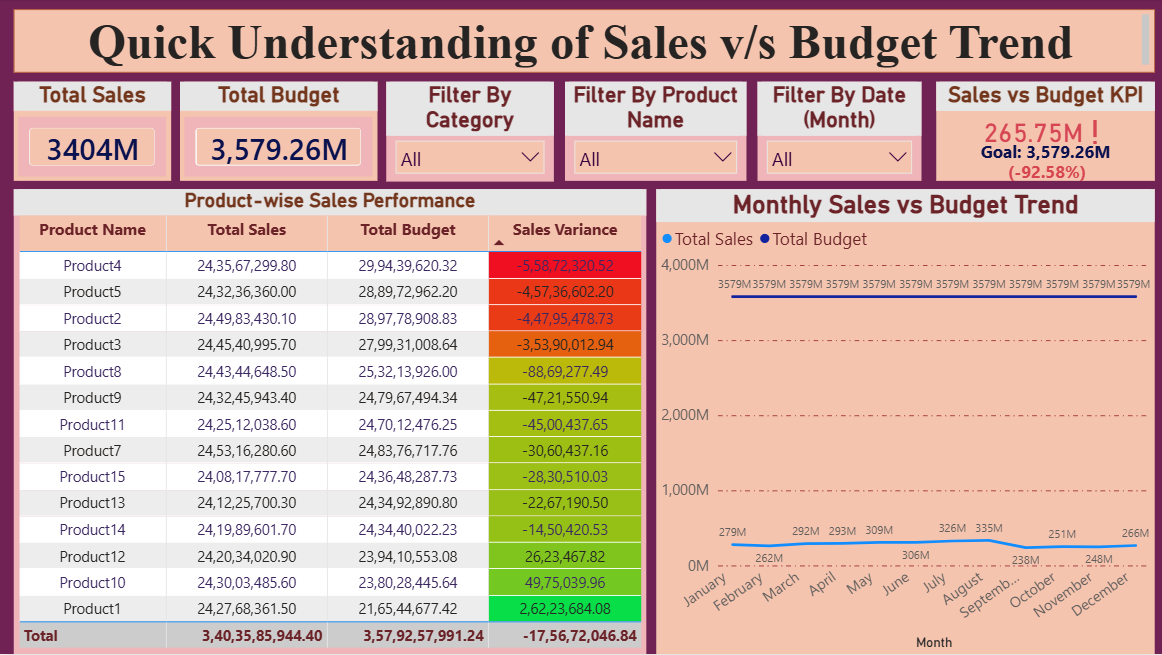

This screenshot's page, from the dashboard's own definition file:
{"tool":"powerbi","page":{"name":"Sales Overview","canvas":[1280,720],"ordinal":0},"visuals":[{"type":"cardVisual","title":"Total Sales","fields":{"Data":["Sales.Total Sales"]},"box":[15.1,91.9,172.9,108.4],"z":0},{"type":"kpi","title":"Sales vs Budget KPI","fields":{"Indicator":["Sales.Total Sales"],"Goal":["Budget.Total Budget"],"TrendLine":["Sales.Date.Variation.Date Hierarchy.Month"]},"box":[1027.8,91.9,240.1,108.4],"z":1000},{"type":"lineChart","title":"Monthly Sales vs Budget Trend","fields":{"Y":["Sales.Total Sales","Budget.Total Budget"],"Category":["Sales.Date.Variation.Date Hierarchy.Month"]},"box":[720.4,209.9,547.5,510.5],"z":2000},{"type":"tableEx","title":"Product-wise Sales Performance","fields":{"Values":["Product Master.Product Name","Sales.Total Sales","Budget.Total Budget","Sales.Sales Variance"]},"box":[15.1,209.9,694.3,510.5],"z":3000},{"type":"slicer","title":"Filter By Category","fields":{"Values":["Product Master.Category"]},"box":[424,91.9,183.9,109.8],"z":4000},{"type":"textbox","title":"Quick understanding of Sales v/s Budget Trend","box":[15.1,12.3,1252.8,70],"z":5000},{"type":"cardVisual","title":"Total Budget","fields":{"Data":["Budget.Total Budget"]},"box":[197.6,91.9,216.8,108.4],"z":6000},{"type":"slicer","title":"Filter By Product Name","fields":{"Values":["Product Master.Product Name"]},"box":[620.2,91.9,199,108.4],"z":7000},{"type":"slicer","title":"Filter By Date (Month)","fields":{"Values":["Sales.Date.Variation.Date Hierarchy.Month"]},"box":[831.6,91.9,179.8,108.4],"z":8000}]}

Visuals, with their boxes in screenshot pixels (x1, y1, x2, y2), scaled from the page's 1280x720 canvas onto the 1162x655 screenshot:
"Total Sales" cardVisual: (left=14, top=84, right=171, bottom=182)
"Sales vs Budget KPI" kpi: (left=933, top=84, right=1151, bottom=182)
"Monthly Sales vs Budget Trend" lineChart: (left=654, top=191, right=1151, bottom=654)
"Product-wise Sales Performance" tableEx: (left=14, top=191, right=644, bottom=654)
"Filter By Category" slicer: (left=385, top=84, right=552, bottom=183)
"Quick understanding of Sales v/s Budget Trend" textbox: (left=14, top=11, right=1151, bottom=75)
"Total Budget" cardVisual: (left=179, top=84, right=376, bottom=182)
"Filter By Product Name" slicer: (left=563, top=84, right=744, bottom=182)
"Filter By Date (Month)" slicer: (left=755, top=84, right=918, bottom=182)
